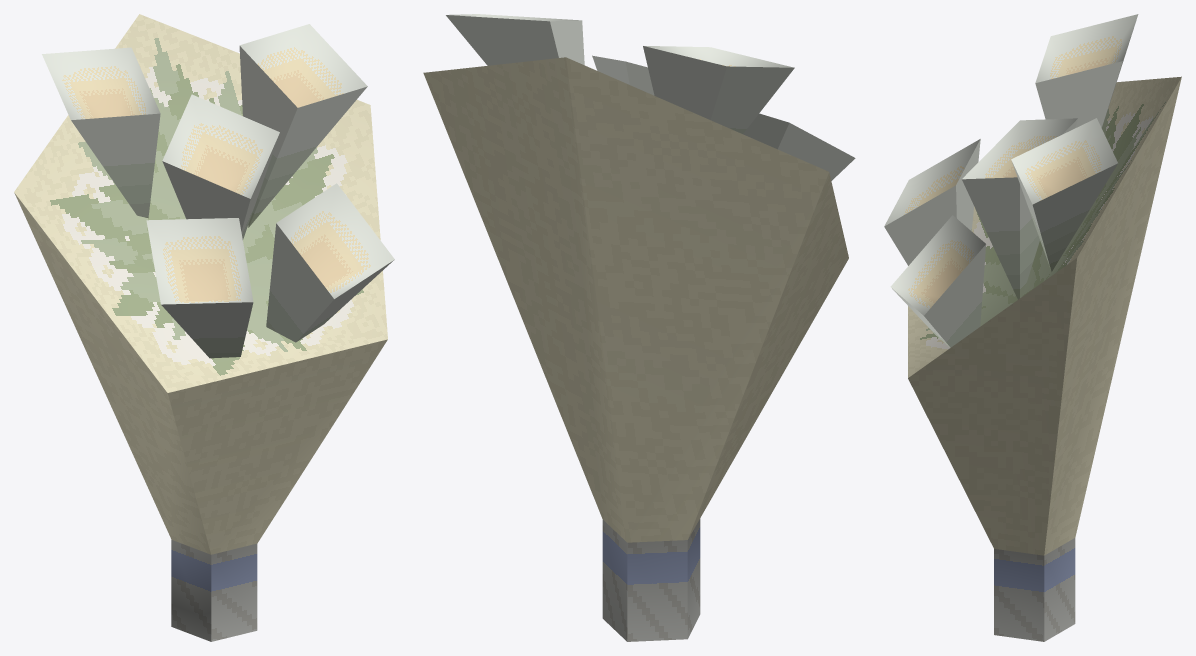
Rendered from 03ce_Flower_Bouquet.glb.
3 renders of one model, left to right at view 1: azimuth 30°, elevation 25°; view 2: azimuth 150°, elevation 25°; view 3: azimuth 270°, elevation 25°, orthographic. The views are drawn at different scales.
Parts seen in each view (by area): view 1: part_0; view 2: part_0; view 3: part_0.
Boxes of the visible parts, box(x1,y1,x2,y2) form: part_0: box(14, 14, 394, 641); part_0: box(423, 14, 855, 641); part_0: box(884, 14, 1181, 641).
Size of the model in its own units: 0.3766 by 0.5631 by 0.2752.
Materials: 1 (1 with a texture image).
